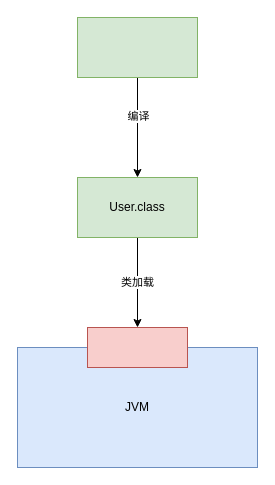
This 275x485 diagram has some shape labels left out. Here are the shapes that lost their labels. From the top down, the box of each, then its label:
(76, 16, 198, 78): User.java
(86, 326, 188, 368): 类加载器
